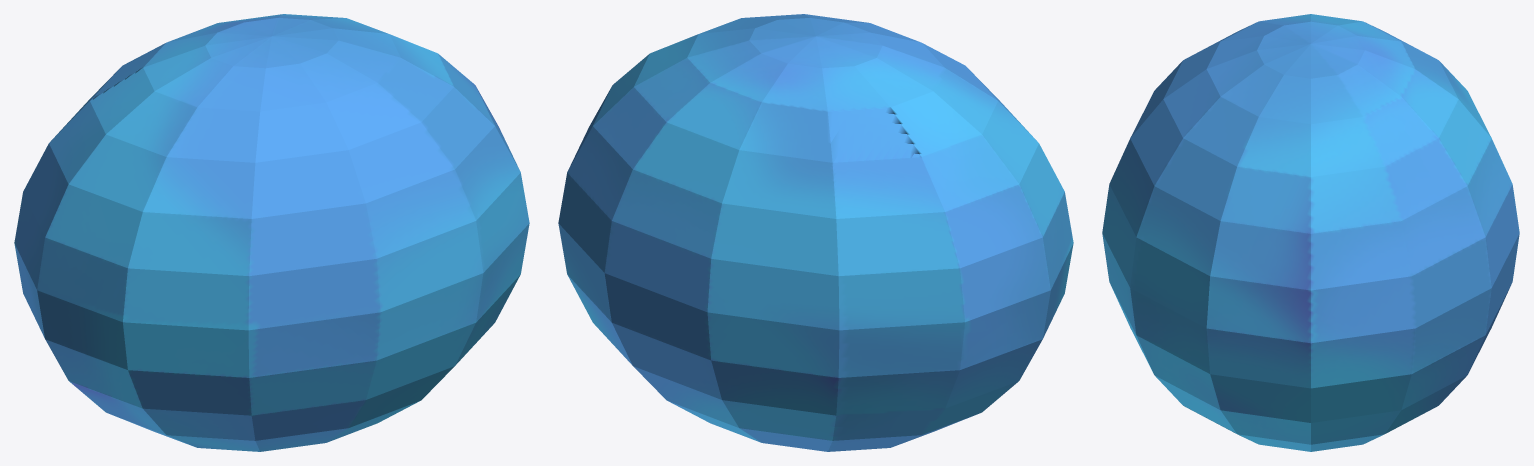
Rendered from tower_1_water_drop.fbx.
The picture shows the model from 3 angles, left to right: view 1: azimuth 30°, elevation 25°; view 2: azimuth 150°, elevation 25°; view 3: azimuth 270°, elevation 25°; orthographic projection. The views are drawn at different scales.
Parts seen in each view (by area): view 1: water_drop; view 2: water_drop; view 3: water_drop.
Boxes of the visible parts, x1,y1,x2,y2 form: water_drop: (14,14,529,451); water_drop: (558,14,1073,451); water_drop: (1102,14,1519,451).
Size of the model in its own units: 250 by 200 by 200.
